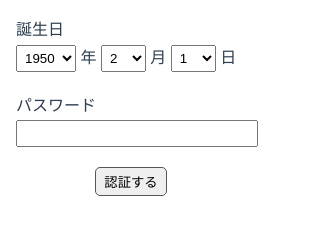
Test case: 誕生日に「1950年2月1日」が選択されており、パスワードが空文字列の場合 › 【画面】パスワードに「1234」と入力してsubmitイベントを発火させると、「誕生日が違います」と表示される
The image size is (320, 232).
Expected: the dropdown with id "year" shows "1950", [16,45,76,72]
Expected: the dropdown with id "month" shows "2", [101,45,146,72]
Type "1234" into the password field at (137, 134), box [16,120,258,147]
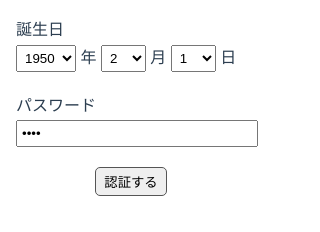
Submit the form, box [16,16,246,196]
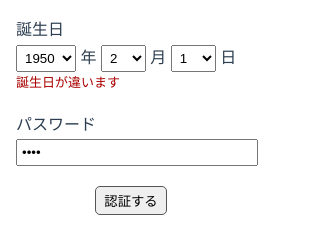
Result: the text with class "error-msg" reads "誕生日が違います" at [16,75,120,90]
